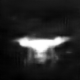plane: (13, 33, 74, 66)
